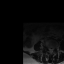CCS_normal: (50, 46, 51, 53)
LFS_normal: (53, 45, 55, 50)
LLS_normal: (51, 46, 53, 53)
RFS_stenosis: (46, 44, 48, 50)
RLS_normal: (48, 46, 50, 52)
